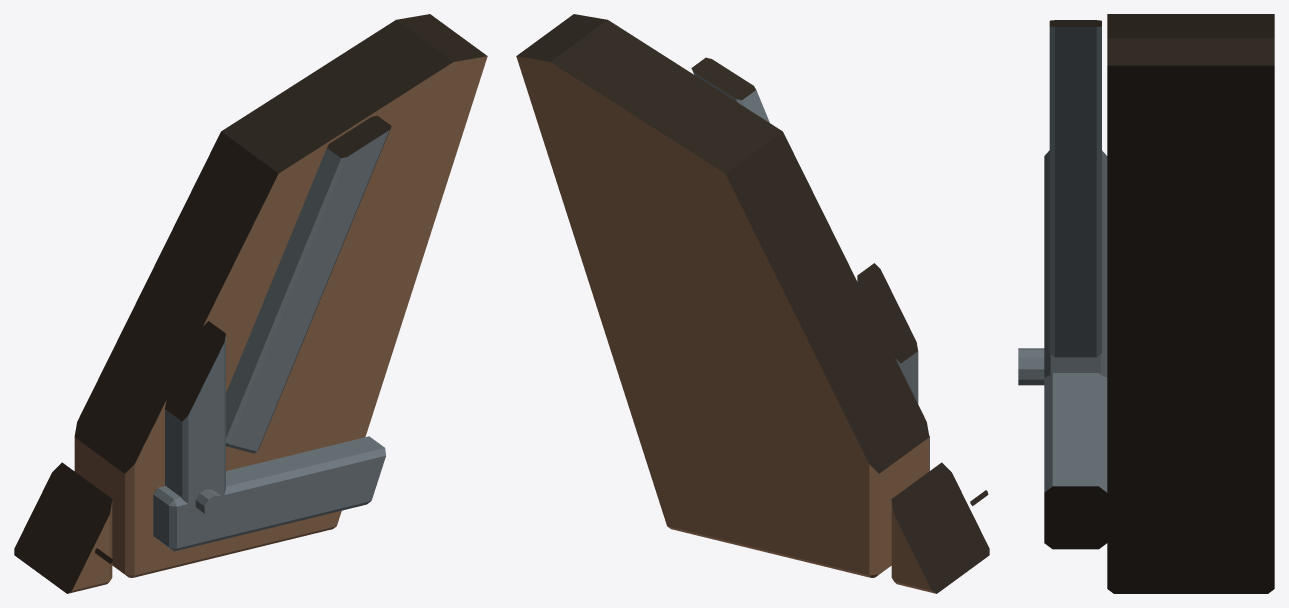
The model's file is SM_DoorShard_02_42.fbx.
3 views of the same model, side by side, from view 1: azimuth 30°, elevation 25°; view 2: azimuth 150°, elevation 25°; view 3: azimuth 270°, elevation 25° (orthographic). The views are drawn at different scales.
Visible parts, largest first — view 1: SM_DoorShard_02_42; view 2: SM_DoorShard_02_42; view 3: SM_DoorShard_02_42.
Boxes of the visible parts, x1,y1,x2,y2 form: SM_DoorShard_02_42: [14, 14, 487, 593]; SM_DoorShard_02_42: [516, 14, 989, 593]; SM_DoorShard_02_42: [1018, 14, 1274, 593].
Bounding box in the file's own units: 67.06 × 24.5 × 67.41.
